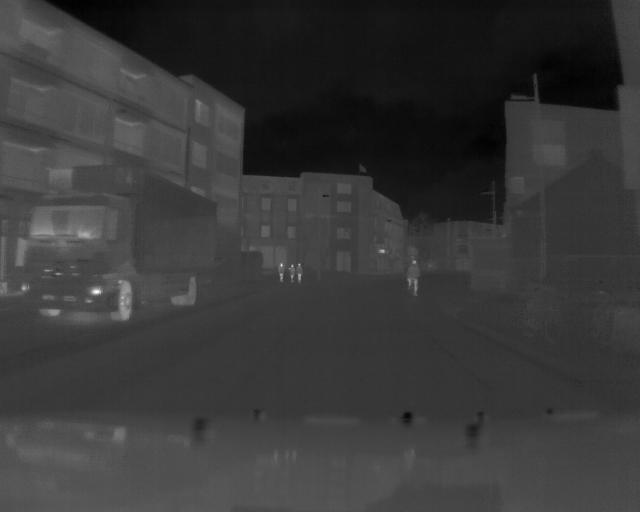car: (20, 160, 204, 322)
person: (403, 258, 422, 301), (295, 261, 305, 287), (276, 260, 285, 288), (288, 262, 295, 286)
